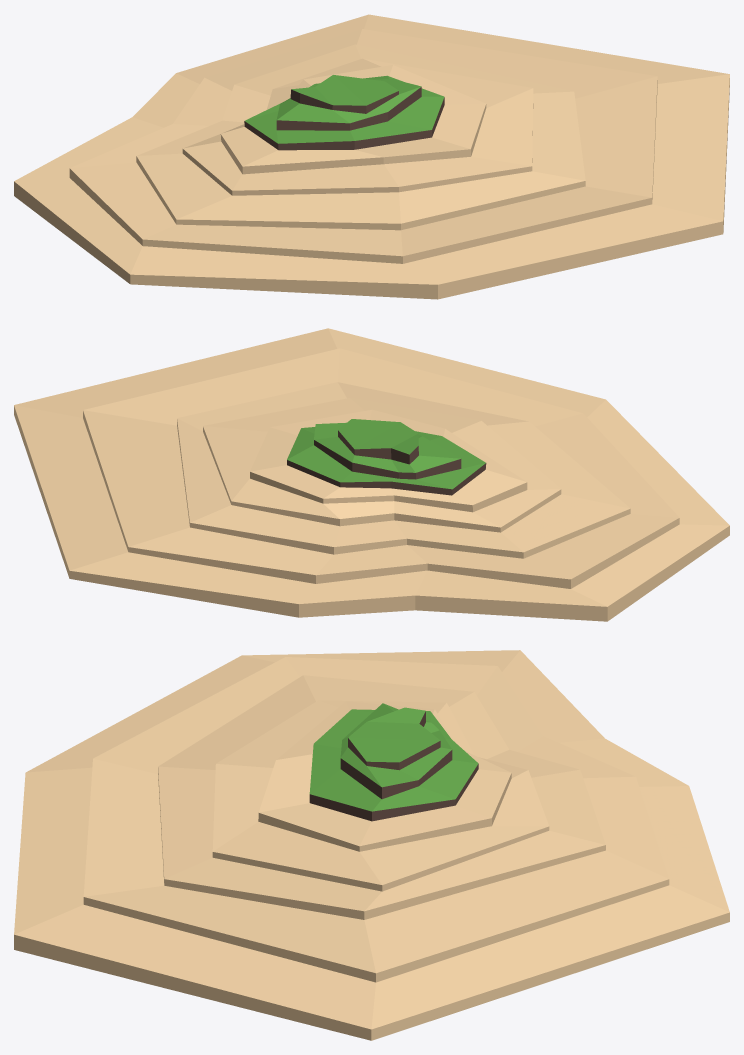
Rendered from is_2_sable.fbx.
3 renders of one model, top to bottom at view 1: azimuth 30°, elevation 25°; view 2: azimuth 150°, elevation 25°; view 3: azimuth 270°, elevation 25°, orthographic. The views are drawn at different scales.
Visible parts, largest first — view 1: ILE; view 2: ILE; view 3: ILE.
Boxes of the visible parts, x1=… form: ILE: x1=14, y1=14, x2=729, y2=299; ILE: x1=14, y1=328, x2=729, y2=621; ILE: x1=14, y1=650, x2=729, y2=1040.
Size of the model in its own units: 1754 by 210 by 1417.
